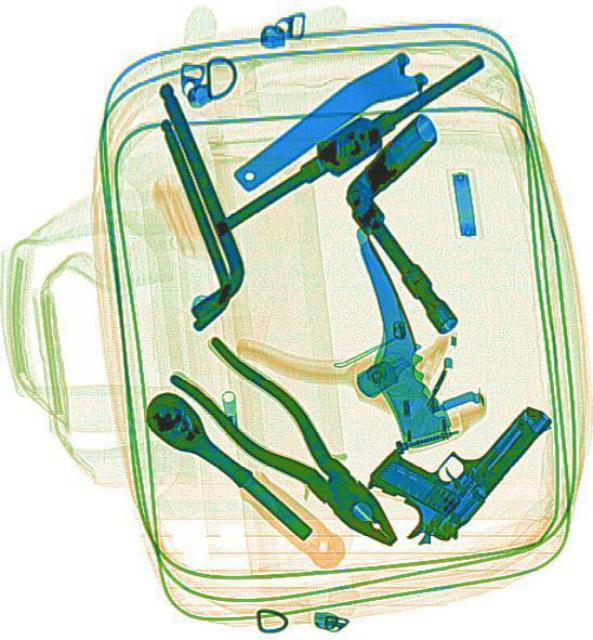Gun: (351, 353, 549, 559)
Pliers: (163, 324, 420, 564)
